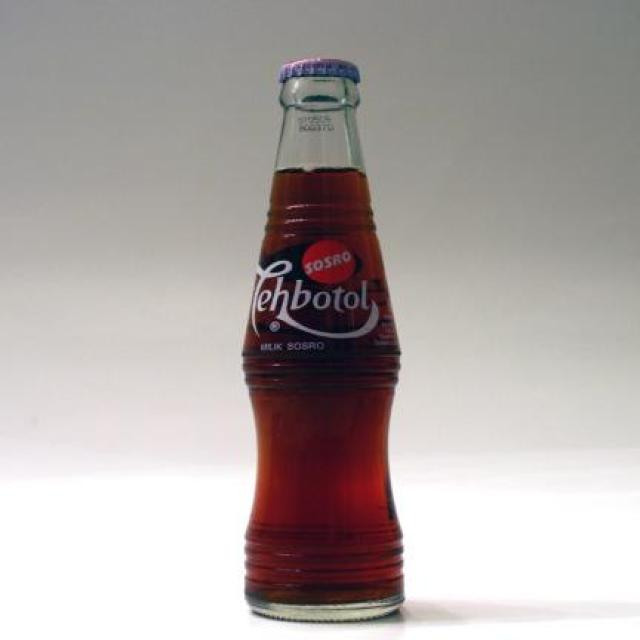high: (243, 58, 403, 618)
